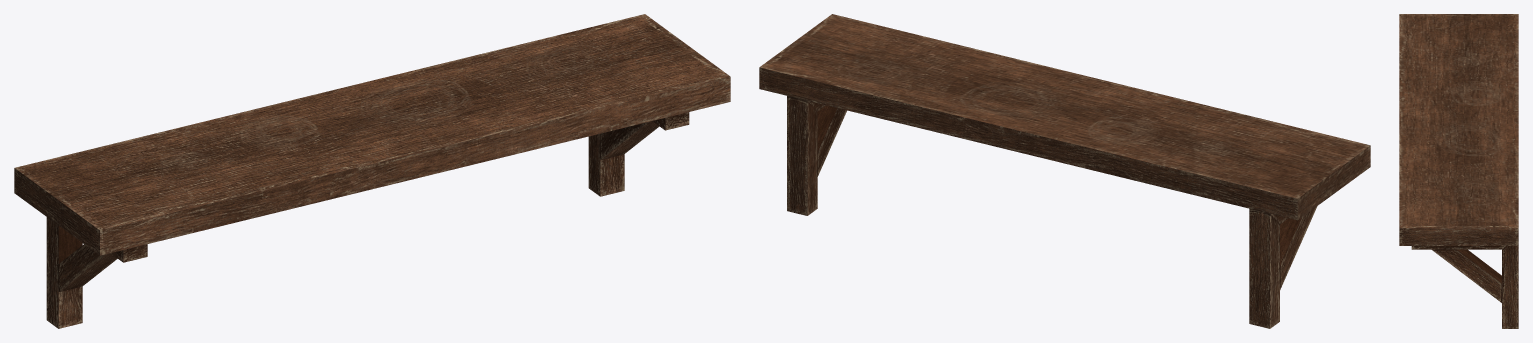
Rendered from shelf.glb.
3 renders of one model, left to right at view 1: azimuth 30°, elevation 25°; view 2: azimuth 150°, elevation 25°; view 3: azimuth 270°, elevation 25°, orthographic. The views are drawn at different scales.
Visible parts, largest first — view 1: Object_2; view 2: Object_2; view 3: Object_2.
Part boxes in pixels (x1,y1,x2,y2): Object_2: (14,14,730,328); Object_2: (759,14,1370,328); Object_2: (1399,14,1518,328).
Bounding box in the file's own units: 1.04 × 0.2535 × 0.245.
1 material, 1 textured.
